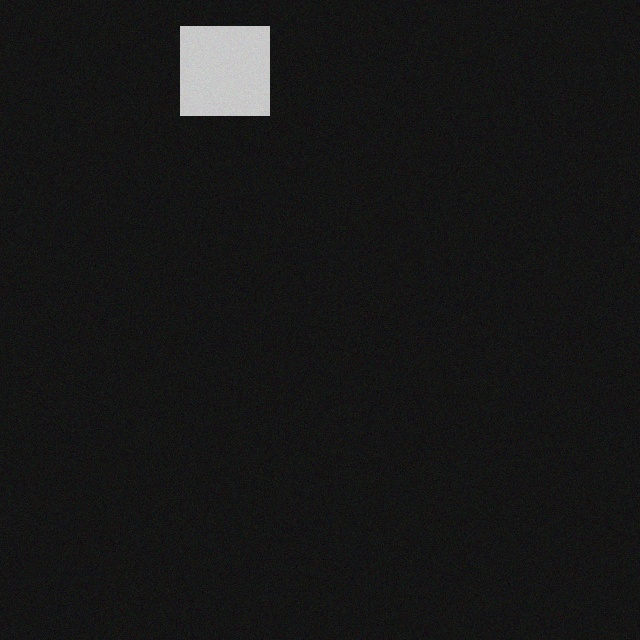square: (187, 36, 276, 125)
